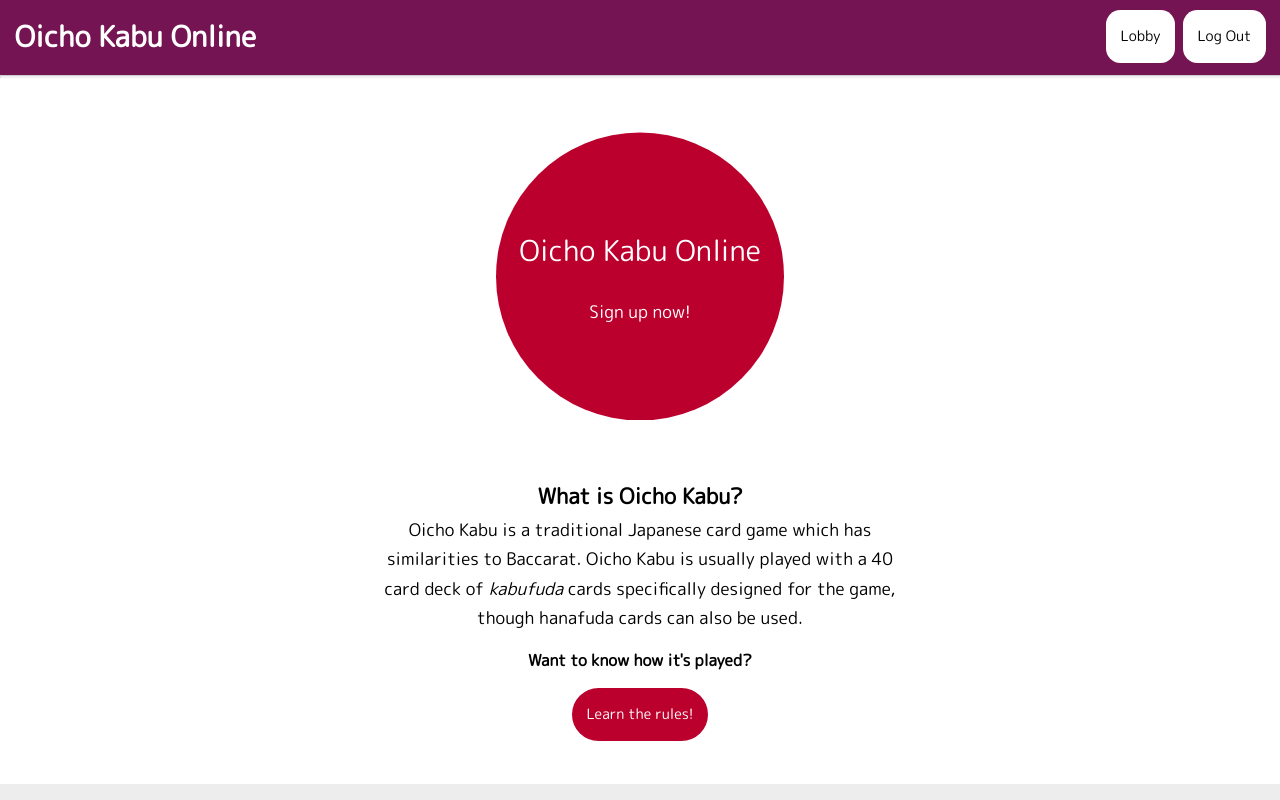
Test: Navbar › directs to front page and changes navbar buttons when 'Log Out' clicked
The image size is (1280, 800).
Click the link "Lobby".
click(1141, 37)  # box [1106,10,1175,63]
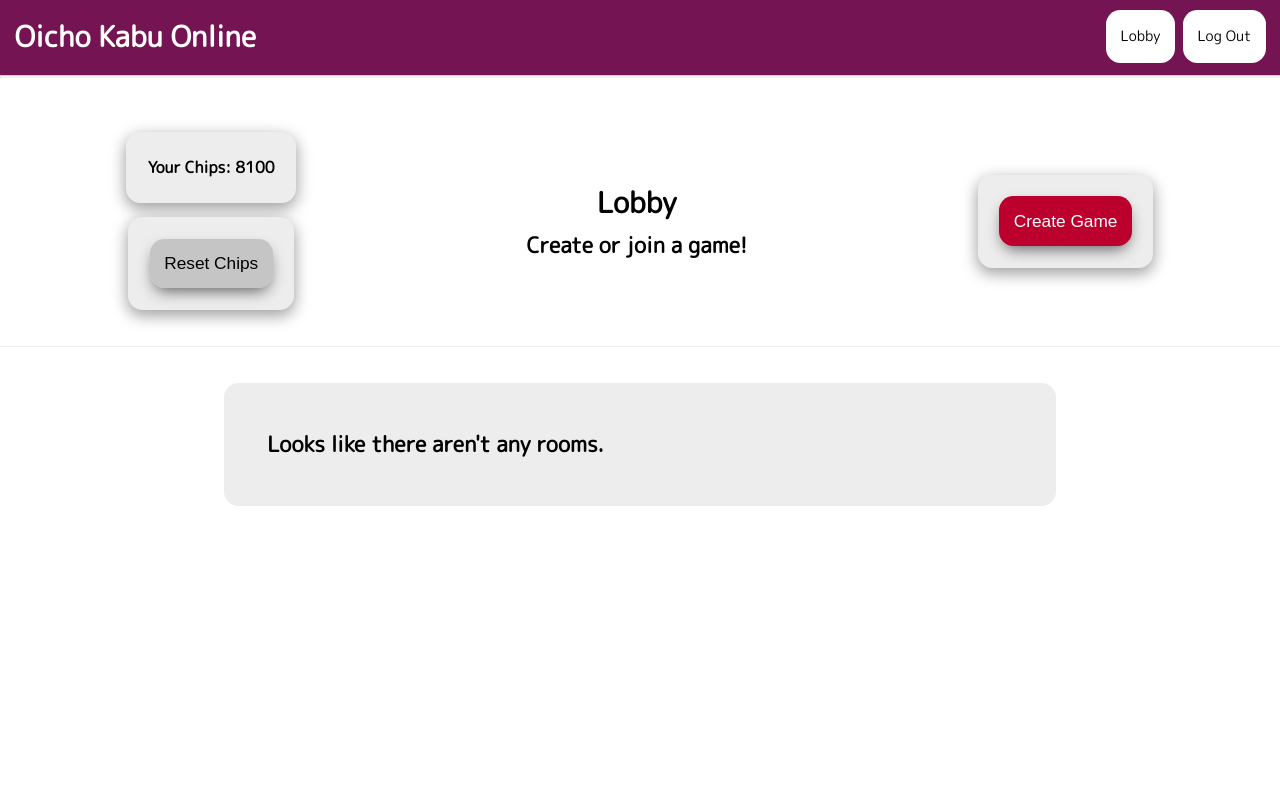
Now the heading "Create or join a game!" is shown, box [527,227,747,264]
Click the link "Log Out".
click(1224, 37)  # box [1183,10,1266,63]
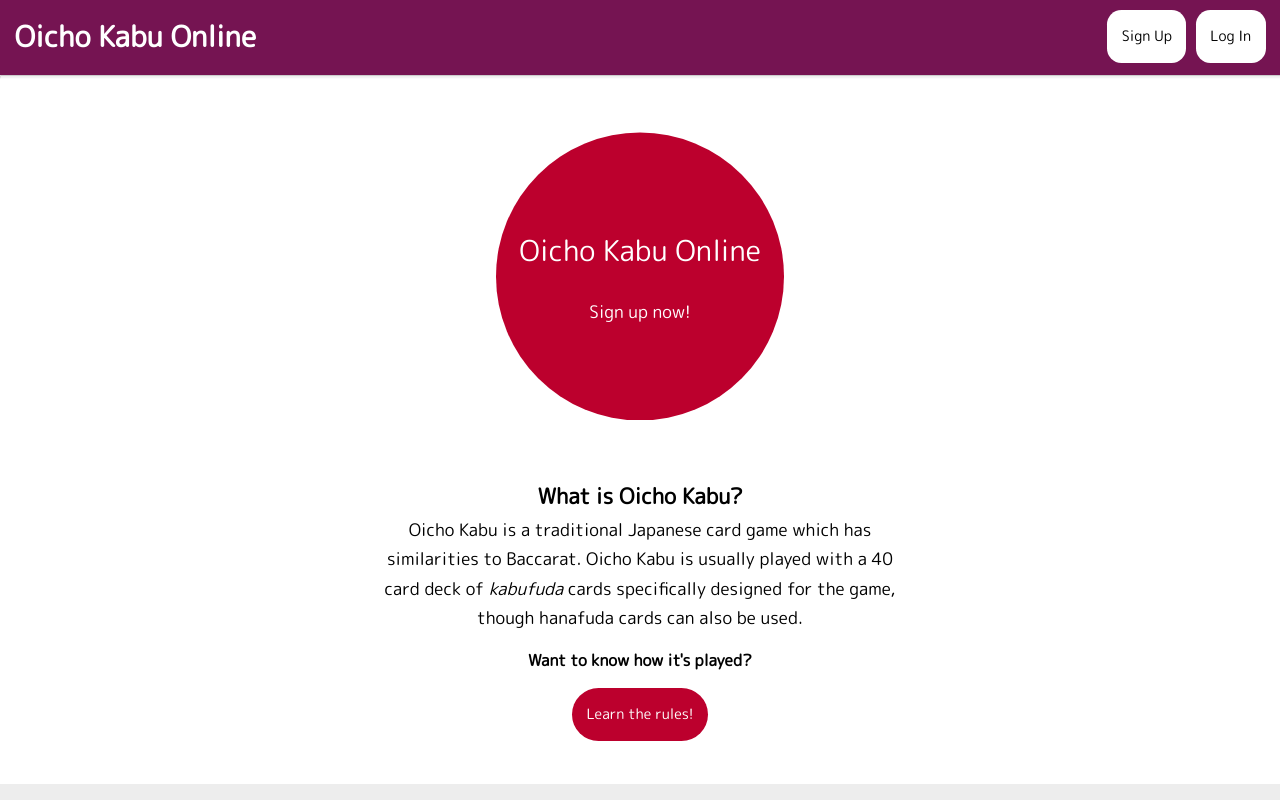
Now the heading "What is Oicho Kabu?" is shown, box [537,481,743,511]
Now the link "Log In" is shown, box [1196,10,1266,63]
